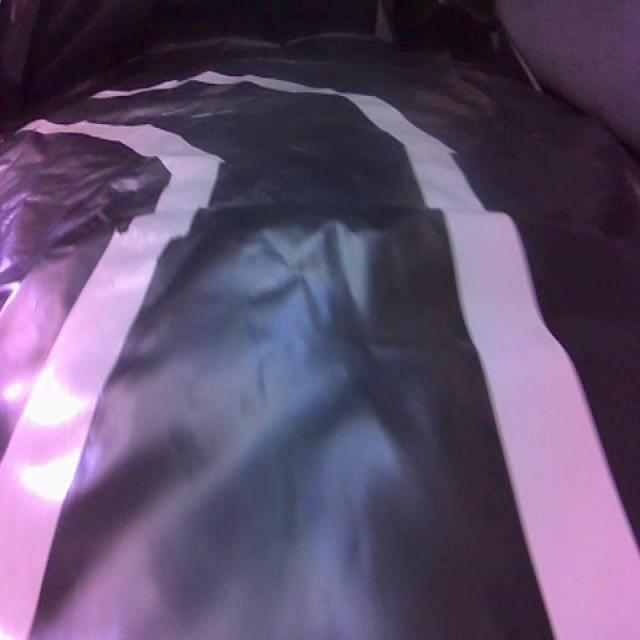LineaCarril: (344, 95, 640, 638), (0, 120, 219, 638)
